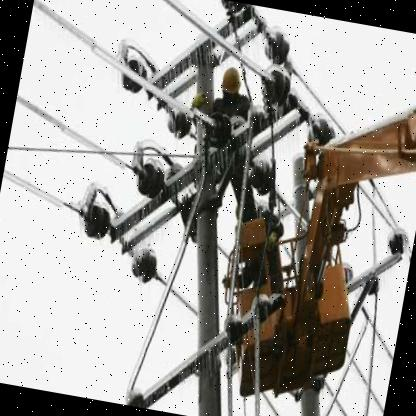capacete: (214, 60, 246, 105)
